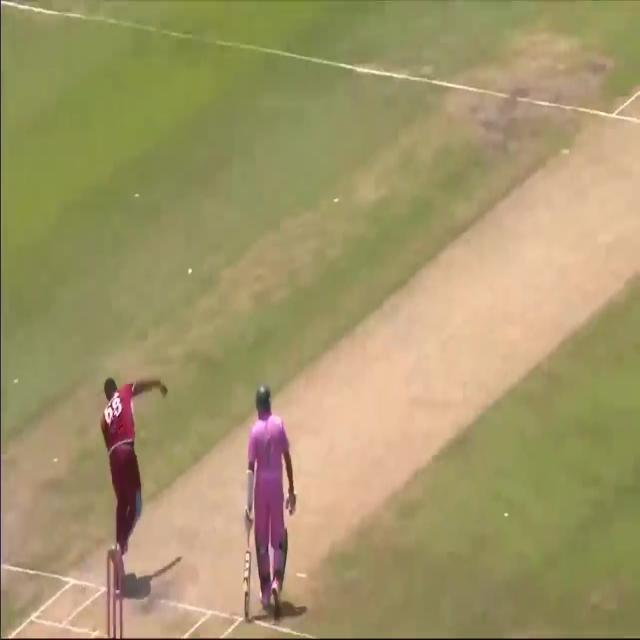Ball: (242, 378, 297, 616)
